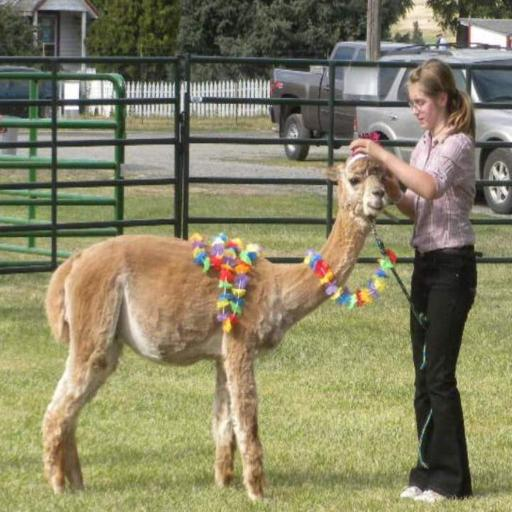Person: (325, 73, 501, 461)
no_gloves: (342, 144, 394, 207)
no_goggle: (389, 102, 452, 144)
no_helmet: (385, 91, 473, 155)
none: (411, 158, 487, 256)
